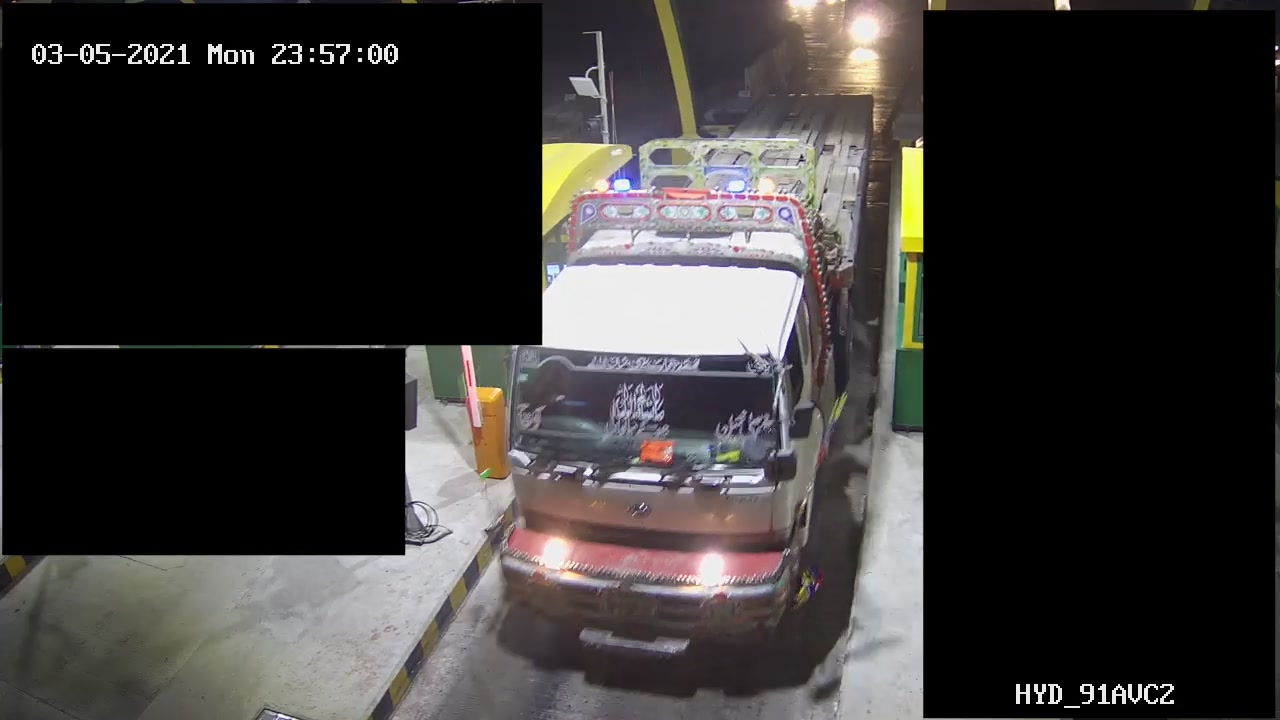F6: (493, 88, 878, 673)
